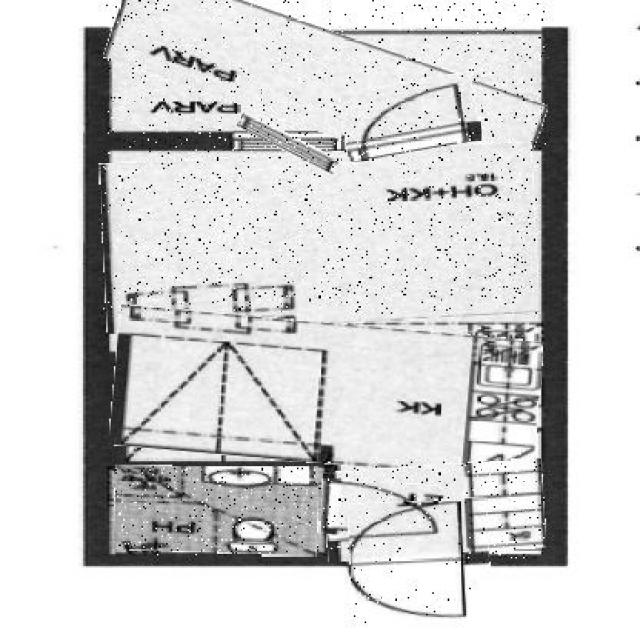door: (349, 499, 491, 626), (342, 75, 480, 157), (319, 482, 446, 540)
window: (235, 125, 340, 162)
zone: (101, 146, 537, 329), (106, 0, 546, 163), (112, 314, 540, 472), (326, 462, 545, 558), (115, 468, 318, 557)
